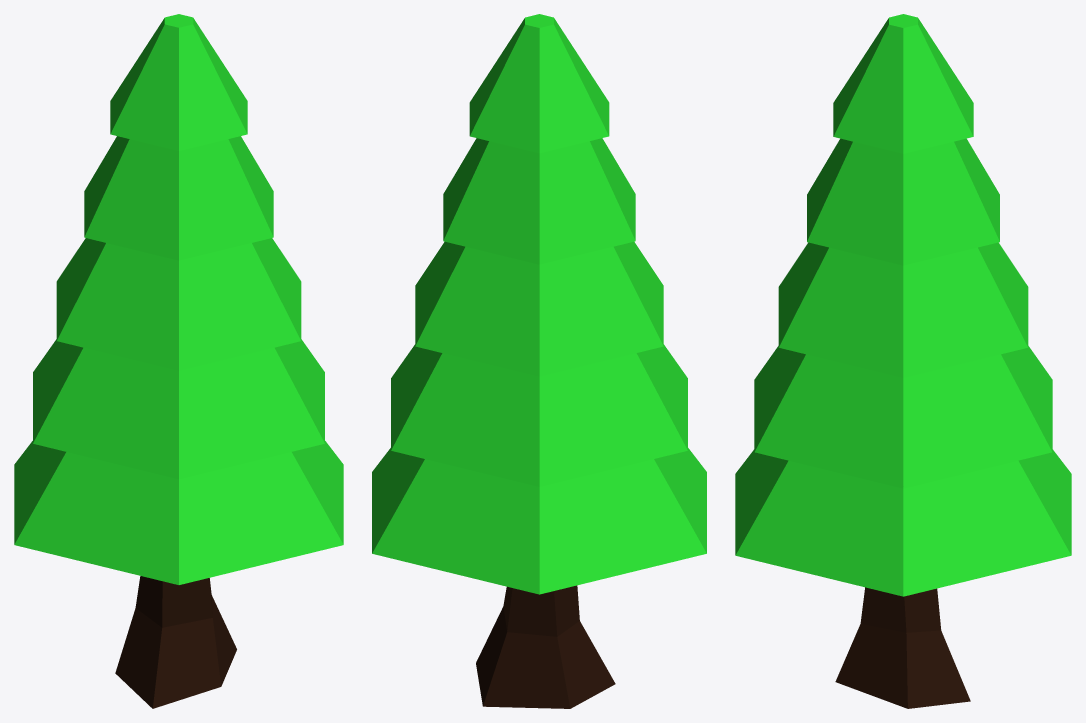
Rendered from Tree005.FBX.
The picture shows the model from 3 angles, left to right: view 1: azimuth 30°, elevation 25°; view 2: azimuth 150°, elevation 25°; view 3: azimuth 270°, elevation 25°; orthographic projection. The views are drawn at different scales.
Visible parts, largest first — view 1: Cone001, Cone002; view 2: Cone001, Cone002; view 3: Cone001, Cone002.
Part boxes in pixels (x1=…): Cone001: x1=14, y1=14, x2=343, y2=584; Cone002: x1=115, y1=576, x2=236, y2=708; Cone001: x1=372, y1=14, x2=706, y2=594; Cone002: x1=476, y1=585, x2=615, y2=708; Cone001: x1=735, y1=14, x2=1071, y2=596; Cone002: x1=835, y1=587, x2=970, y2=708.
Bounding box in the file's own units: 43.26 × 82.53 × 37.47.
